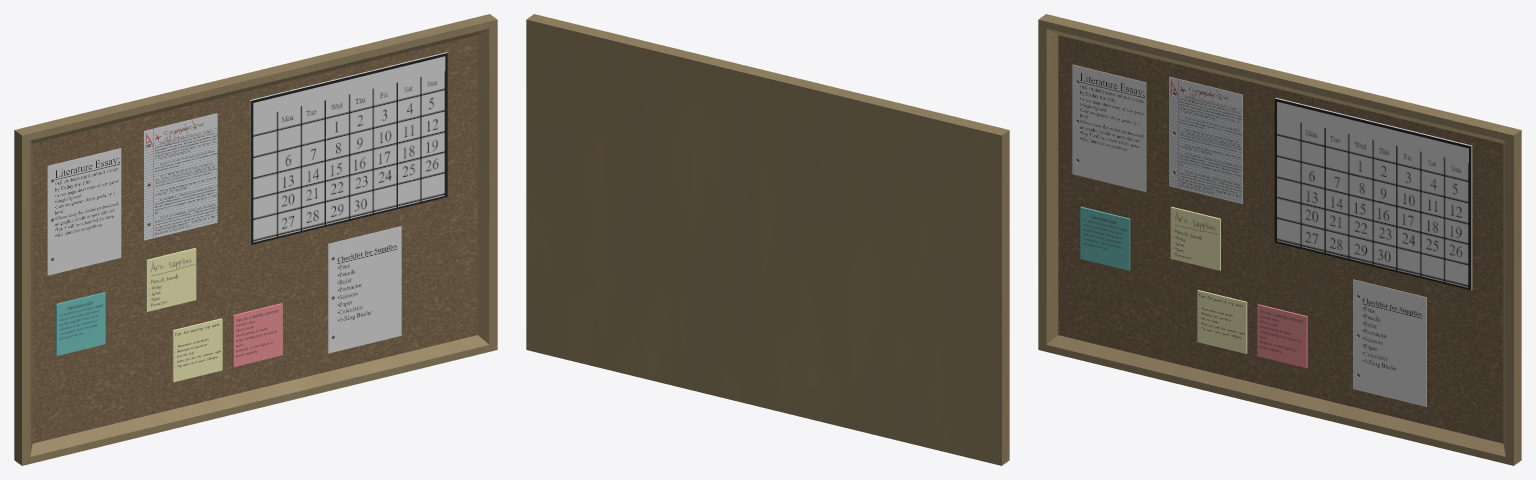
Rendered from Bulletin Board.fbx.
The picture shows the model from 3 angles, left to right: view 1: azimuth 30°, elevation 25°; view 2: azimuth 150°, elevation 25°; view 3: azimuth 330°, elevation 25°; orthographic projection.
Parts seen in each view (by area): view 1: Corkboard, Bulletin Board, Calendar, Choogenham Essay, Lit Essay Rules, Supply checklist, StickyNote1, StickyNote3, StickyNote4, StickyNote2; view 2: Bulletin Board; view 3: Corkboard, Bulletin Board, Calendar, Lit Essay Rules, Supply checklist, Choogenham Essay, StickyNote3, StickyNote1, StickyNote2, StickyNote4.
Boxes of the visible parts, <box> form: Corkboard: <box>32,35,477,443</box>; Bulletin Board: <box>14,14,497,465</box>; Calendar: <box>250,52,447,244</box>; Choogenham Essay: <box>143,113,217,240</box>; Lit Essay Rules: <box>47,148,121,275</box>; Supply checklist: <box>328,226,401,353</box>; StickyNote1: <box>172,318,222,382</box>; StickyNote3: <box>232,303,282,367</box>; StickyNote4: <box>55,292,105,355</box>; StickyNote2: <box>146,248,196,311</box>; Bulletin Board: <box>526,14,1009,465</box>; Corkboard: <box>1058,35,1503,443</box>; Bulletin Board: <box>1038,14,1521,465</box>; Calendar: <box>1274,97,1472,290</box>; Lit Essay Rules: <box>1072,64,1146,191</box>; Supply checklist: <box>1353,279,1426,406</box>; Choogenham Essay: <box>1169,76,1242,204</box>; StickyNote3: <box>1257,304,1307,368</box>; StickyNote1: <box>1197,290,1247,353</box>; StickyNote2: <box>1170,207,1220,270</box>; StickyNote4: <box>1080,206,1130,270</box>.
Size of the model in its own units: 3.3 by 2.19 by 0.092.
Materials: 9 (9 with a texture image).
